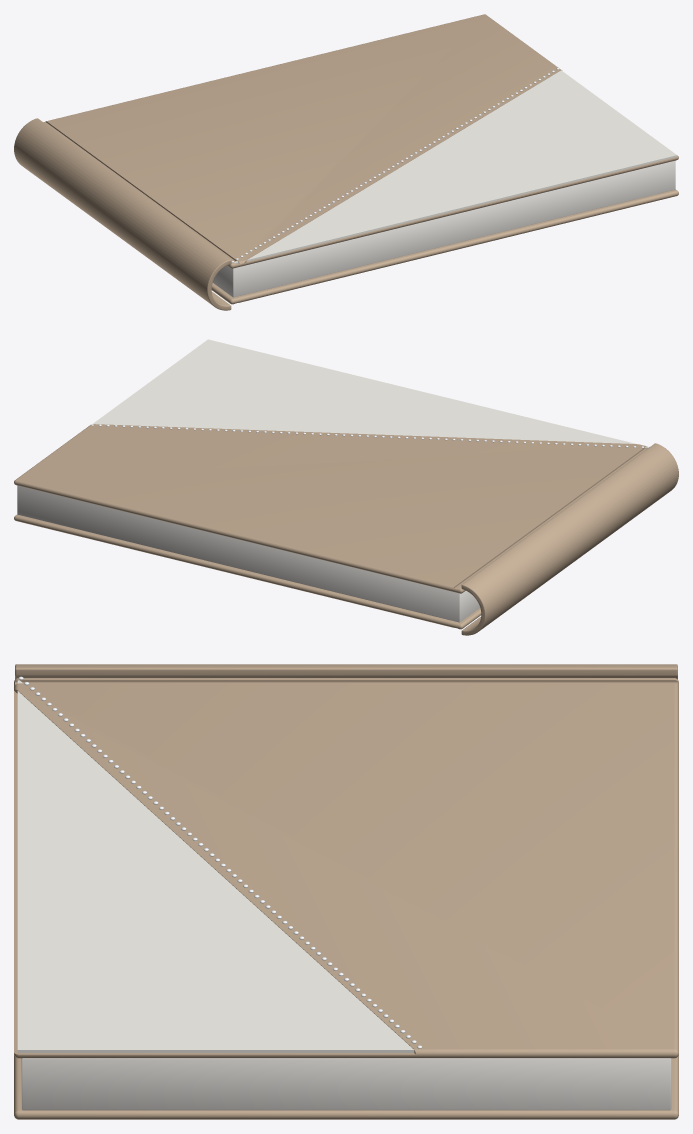
Rendered from oblique--landscape.glb.
The picture shows the model from 3 angles, top to bottom: view 1: azimuth 30°, elevation 25°; view 2: azimuth 150°, elevation 25°; view 3: azimuth 270°, elevation 25°; orthographic projection. The views are drawn at different scales.
Visible parts, largest first — view 1: CoverFront, Band, Pages, Spine, CoverBack, Crystal; view 2: CoverFront, Band, Pages, Spine, CoverBack, Crystal; view 3: CoverFront, Band, Pages, Spine, CoverBack, Crystal.
Part boxes in pixels (x1,y1,x2,y2): CoverFront: (43,14,678,268); Band: (234,70,677,263); Pages: (213,160,675,297); Spine: (14,118,231,310); CoverBack: (211,189,678,304); Crystal: (231,68,559,262); CoverFront: (14,424,646,593); Band: (93,339,648,448); Pages: (17,485,479,622); Spine: (461,443,678,635); CoverBack: (14,514,481,629); Crystal: (91,424,649,448); CoverFront: (14,678,678,1058); Band: (17,680,414,1052); Pages: (21,1058,671,1110); Spine: (15,664,677,679); CoverBack: (14,1055,678,1119); Crystal: (18,676,422,1048).
Size of the model in its own units: 0.4208 by 0.043 by 0.3.
